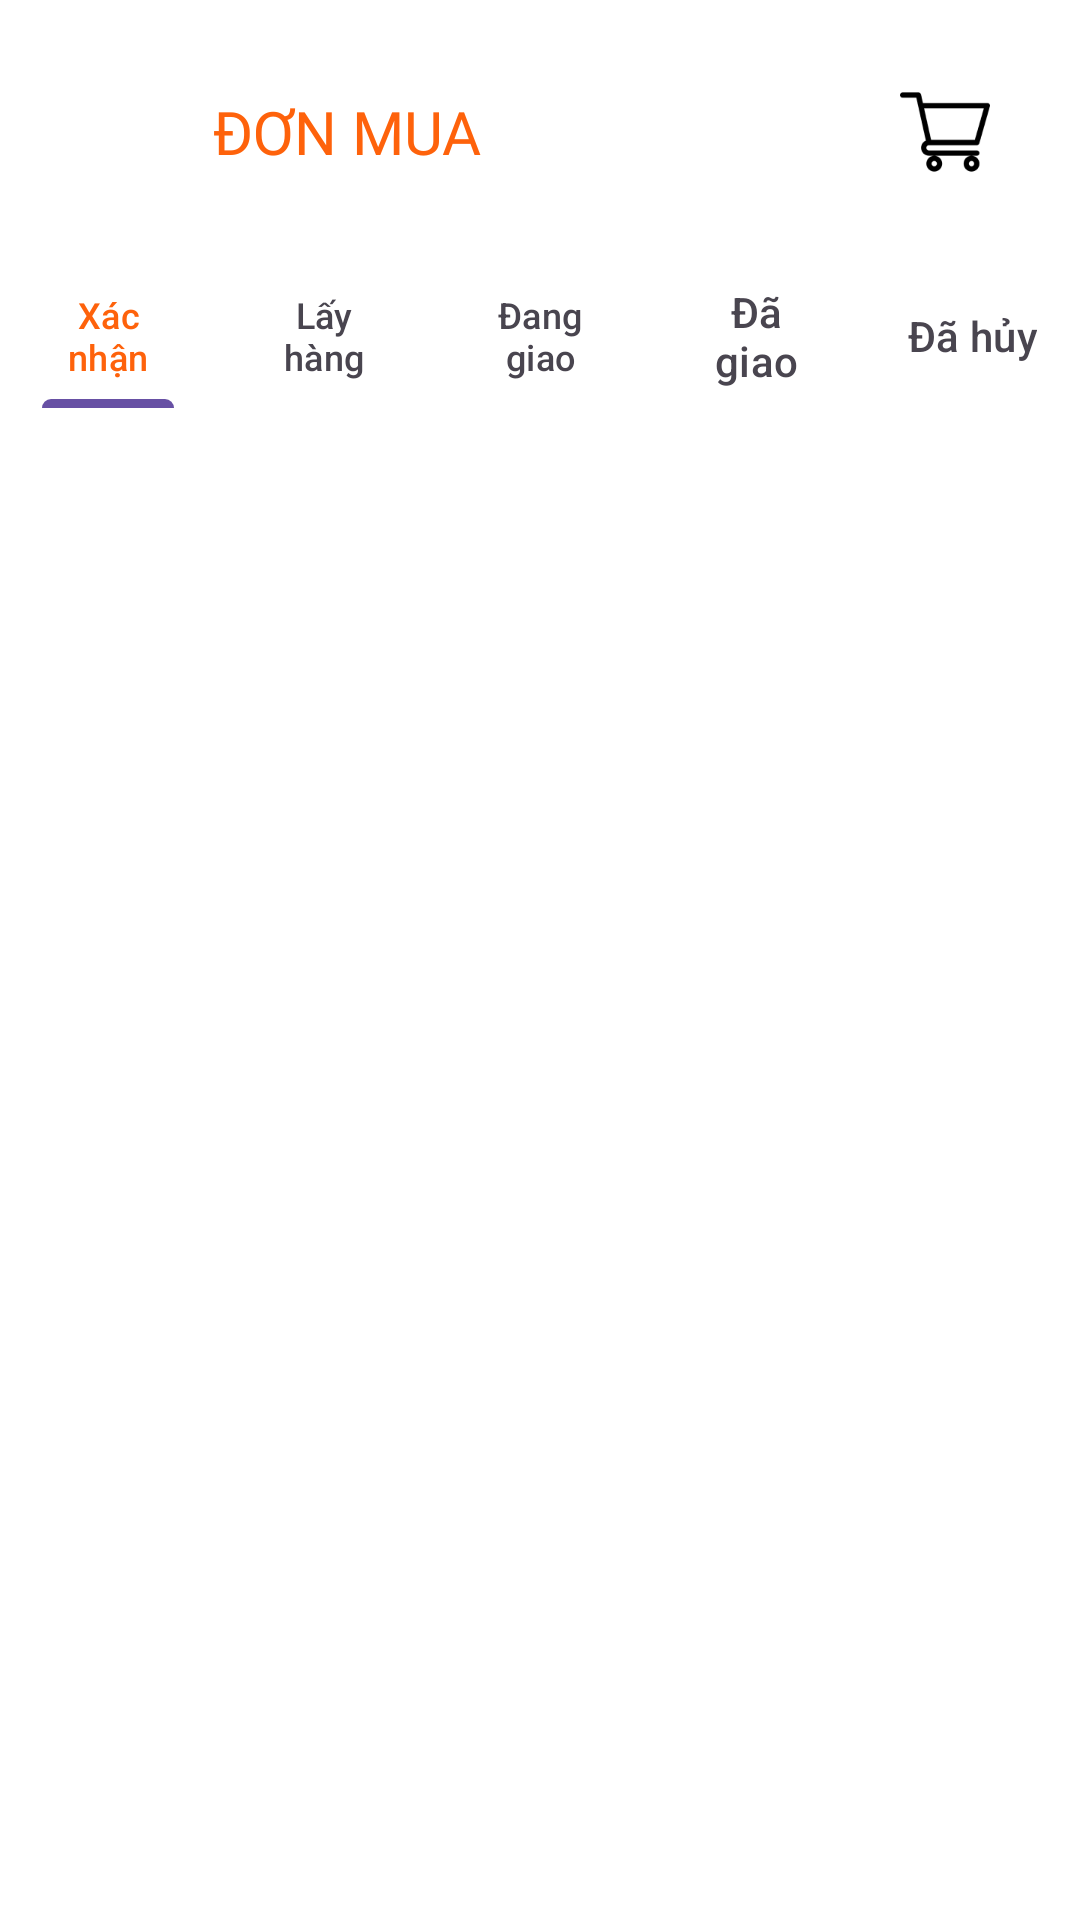

Locate icon controls on the screen. Image size 1080 × 1920, boxes as (left=x1, top=y1, right=x2, bottom=y2).
cart: (left=900, top=92, right=990, bottom=172)
